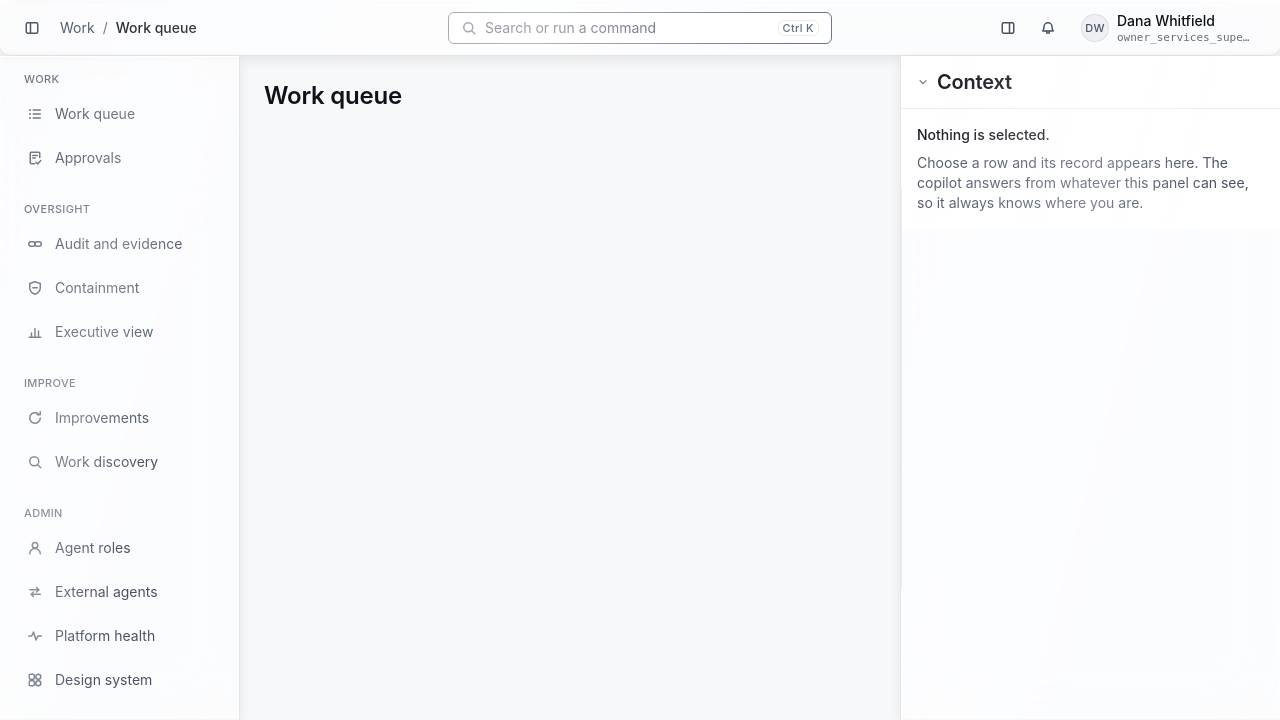
Test: the app shell › the command palette › offers every navigation item, so everything reachable by mouse is reachable here
Type keys "{Control>}k{/Control}"
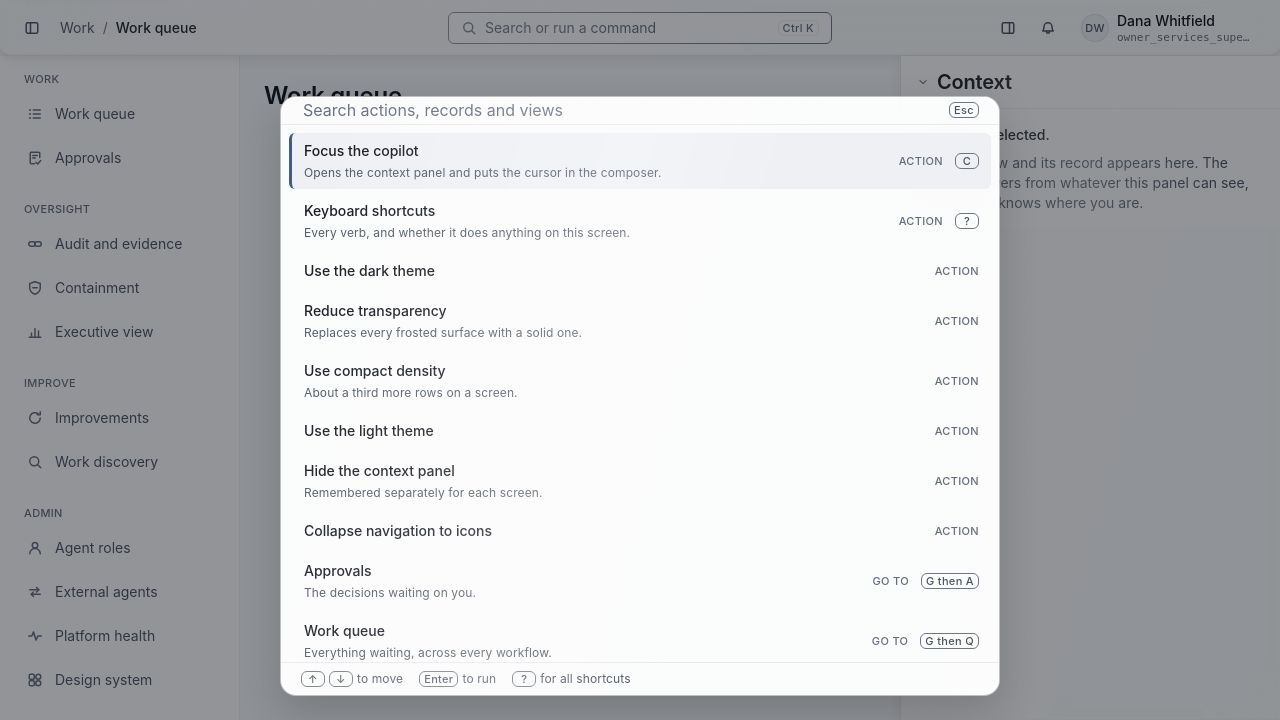
Type "audit" into the dropdown at [619, 110], box [301, 97, 937, 123]
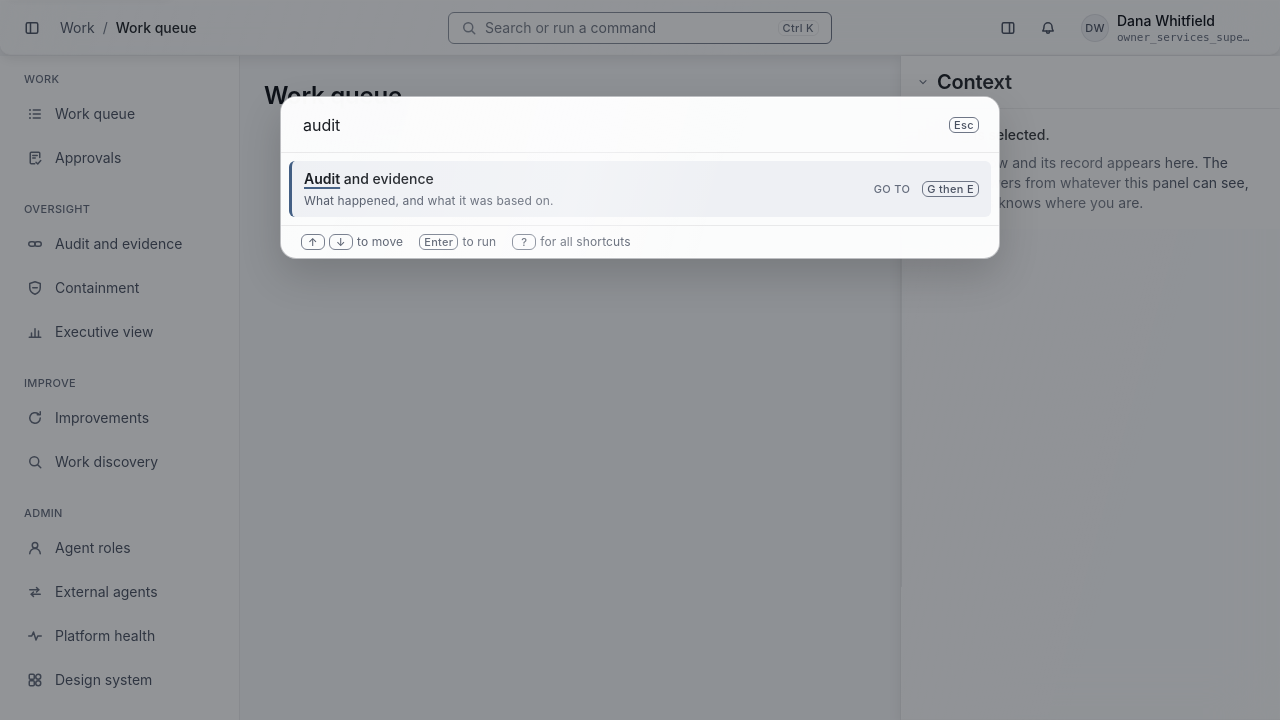
Result: the option "Audit and evidence" is shown at [289, 161, 991, 217]
